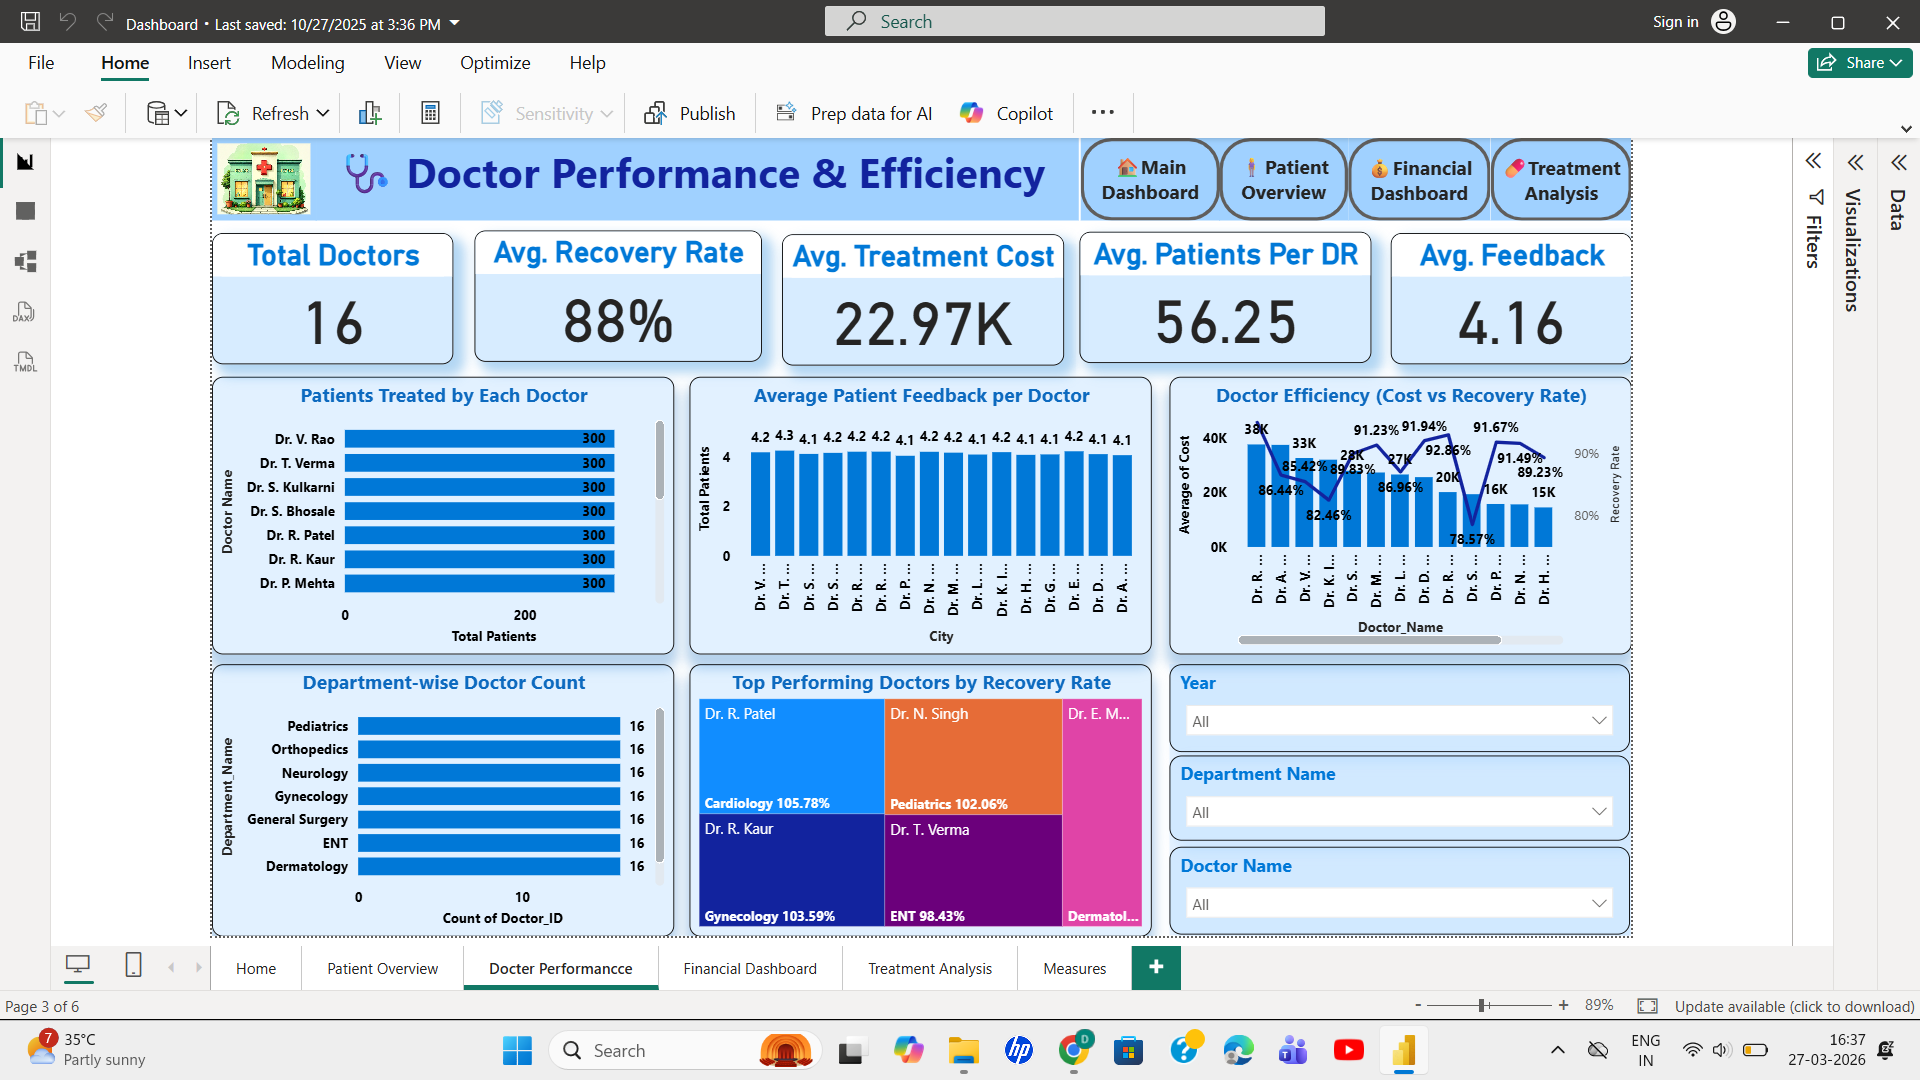

Layout of this report page (visuals, bound fields, positions):
{"tool":"powerbi","page":{"name":"Docter Performancce","canvas":[1280,720],"ordinal":2},"visuals":[{"type":"group","id":"g1","title":"Group 1","box":[0,0,782.2,74.1],"z":0},{"type":"textbox","box":[94.1,0,688.1,74.1],"z":0,"group":"g1"},{"type":"card","title":"Total Doctors","fields":{"Values":["Measure.Total Doctors"]},"box":[0,85.9,217.7,118.6],"z":0,"group":"g2"},{"type":"slicer","title":"Year","fields":{"Values":["DimDate.Year"]},"box":[863.6,474.8,414.9,79.5],"z":0,"group":"g3"},{"type":"image","box":[0,0,94.1,74.1],"z":1000,"group":"g1"},{"type":"card","title":"Avg. Recovery Rate","fields":{"Values":["Measure.Avg Recovery Rate"]},"box":[237.2,83.6,259.2,118.6],"z":1000,"group":"g2"},{"type":"barChart","title":"Patients Treated by Each Doctor","fields":{"Category":["DimDoctor.Doctor_Name"],"Y":["CountNonNull(DimPatient.Patient_ID)"]},"box":[0,215.2,417,250.7],"z":1000},{"type":"slicer","title":"Department Name","fields":{"Values":["DimDepartment.Department_Name"]},"box":[863.3,556.7,414.9,77],"z":1000,"group":"g3"},{"type":"group","id":"g2","title":"Group 2","box":[0,83.6,1280.3,121.5],"z":2000},{"type":"card","title":"Avg. Treatment Cost","fields":{"Values":["Measure.Avg Treatment Cost"]},"box":[513.6,86.5,254.3,118.6],"z":2000,"group":"g2"},{"type":"slicer","title":"Doctor Name","fields":{"Values":["DimDoctor.Doctor_Name"]},"box":[863.1,639.6,414.9,79.5],"z":2000,"group":"g3"},{"type":"card","title":"Avg. Feedback","fields":{"Values":["Measure.Avg Feedback"]},"box":[1062.6,85.9,217.7,118.6],"z":3000,"group":"g2"},{"type":"columnChart","title":"Average Patient Feedback per Doctor","fields":{"Category":["DimDoctor.Doctor_Name"],"Y":["Measure.Avg Feedback"]},"box":[430.4,215.2,417,250.7],"z":3000},{"type":"card","title":"Avg. Patients Per DR","fields":{"Values":["Measure.Avg Patients per Doctor"]},"box":[782.6,85.3,262.9,118.6],"z":4000,"group":"g2"},{"type":"lineClusteredColumnComboChart","title":"Doctor Efficiency (Cost vs Recovery Rate)","fields":{"Category":["DimDoctor.Doctor_Name"],"Y":["Avg(FactPatientVisit.Cost)"],"Y2":["Measure.Recovery Rate"]},"box":[863.3,215.2,417,250.7],"z":4000},{"type":"barChart","title":"Department-wise Doctor Count","fields":{"Category":["DimDepartment.Department_Name"],"Y":["Count(DimDoctor.Doctor_ID)"]},"box":[0,474.5,417,245.8],"z":5000},{"type":"treemap","title":"Top Performing Doctors by Recovery Rate","fields":{"Group":["DimDoctor.Doctor_Name"],"Details":["DimDepartment.Department_Name"],"Values":["Divide(Measure.Avg Recovery Rate, ScopedEval(Measure.Avg Recovery Rate, []))"]},"box":[430.9,474.8,417.2,245.6],"z":6000},{"type":"group","id":"g3","title":"Group 3","box":[863.1,474.8,415.8,244.3],"z":7000},{"type":"actionButton","box":[908.5,0,115.9,74.4],"z":8000},{"type":"actionButton","box":[1024.7,0,128.4,74.6],"z":9000},{"type":"actionButton","box":[1152.8,0,127.2,74.6],"z":10000},{"type":"actionButton","box":[782.9,0,125.6,74.4],"z":11000}]}

Visuals, with their boxes on the page's 1280x720 design canvas (x1, y1, x2, y2). These are canvas units, not pixel positions in the 1920x1080 screenshot, which may show the page scaled, cropped or inside an application window:
"Group 1" group: x1=0 y1=0 x2=782 y2=74
textbox: x1=94 y1=0 x2=782 y2=74
"Total Doctors" card: x1=0 y1=86 x2=218 y2=204
"Year" slicer: x1=864 y1=475 x2=1278 y2=554
image: x1=0 y1=0 x2=94 y2=74
"Avg. Recovery Rate" card: x1=237 y1=84 x2=496 y2=202
"Patients Treated by Each Doctor" barChart: x1=0 y1=215 x2=417 y2=466
"Department Name" slicer: x1=863 y1=557 x2=1278 y2=634
"Group 2" group: x1=0 y1=84 x2=1280 y2=205
"Avg. Treatment Cost" card: x1=514 y1=86 x2=768 y2=205
"Doctor Name" slicer: x1=863 y1=640 x2=1278 y2=719
"Avg. Feedback" card: x1=1063 y1=86 x2=1280 y2=204
"Average Patient Feedback per Doctor" columnChart: x1=430 y1=215 x2=847 y2=466
"Avg. Patients Per DR" card: x1=783 y1=85 x2=1046 y2=204
"Doctor Efficiency (Cost vs Recovery Rate)" lineClusteredColumnComboChart: x1=863 y1=215 x2=1280 y2=466
"Department-wise Doctor Count" barChart: x1=0 y1=474 x2=417 y2=720
"Top Performing Doctors by Recovery Rate" treemap: x1=431 y1=475 x2=848 y2=720
"Group 3" group: x1=863 y1=475 x2=1279 y2=719
actionButton: x1=908 y1=0 x2=1024 y2=74
actionButton: x1=1025 y1=0 x2=1153 y2=75
actionButton: x1=1153 y1=0 x2=1280 y2=75
actionButton: x1=783 y1=0 x2=908 y2=74
